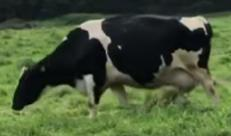cow: (12, 17, 216, 111)
